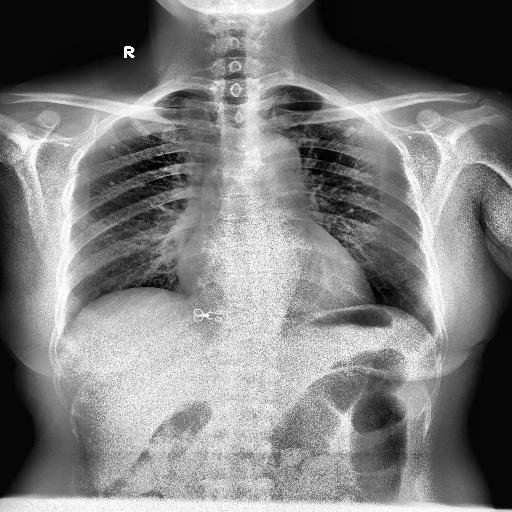0- Aortic enlargement: (247, 127, 305, 189), (244, 130, 302, 180), (248, 133, 306, 182)
